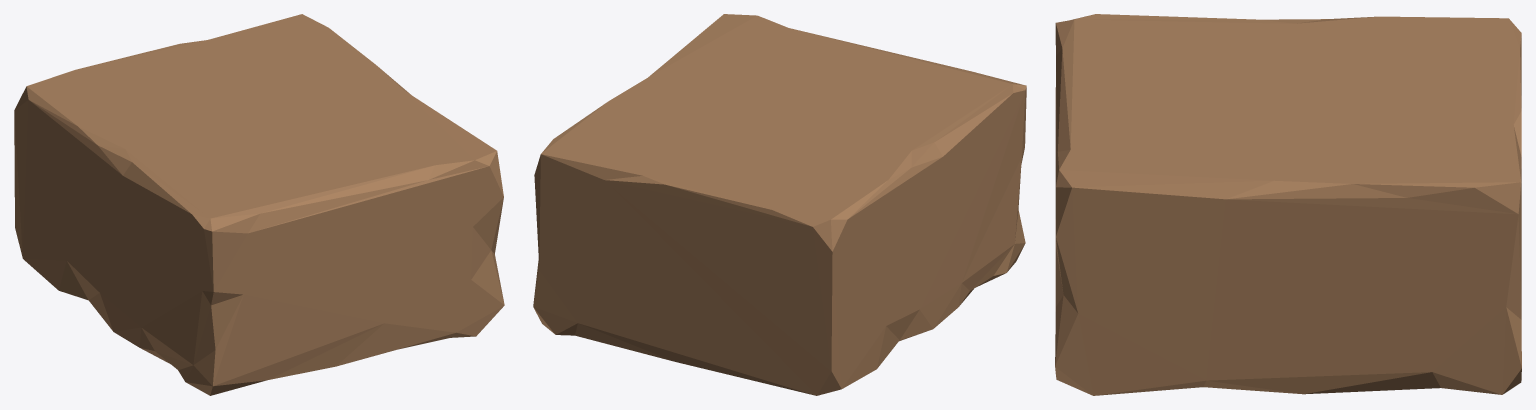
Rendered from SM_large_brick_04.fbx.
The picture shows the model from 3 angles, left to right: view 1: azimuth 30°, elevation 25°; view 2: azimuth 150°, elevation 25°; view 3: azimuth 270°, elevation 25°; orthographic projection. The views are drawn at different scales.
Visible parts, largest first — view 1: large_brick_04; view 2: large_brick_04; view 3: large_brick_04.
Boxes of the visible parts, <box> form: large_brick_04: <box>14,14,504,395</box>; large_brick_04: <box>533,14,1026,395</box>; large_brick_04: <box>1055,14,1521,395</box>.
Bounding box in the file's own units: 142 × 80.61 × 162.
